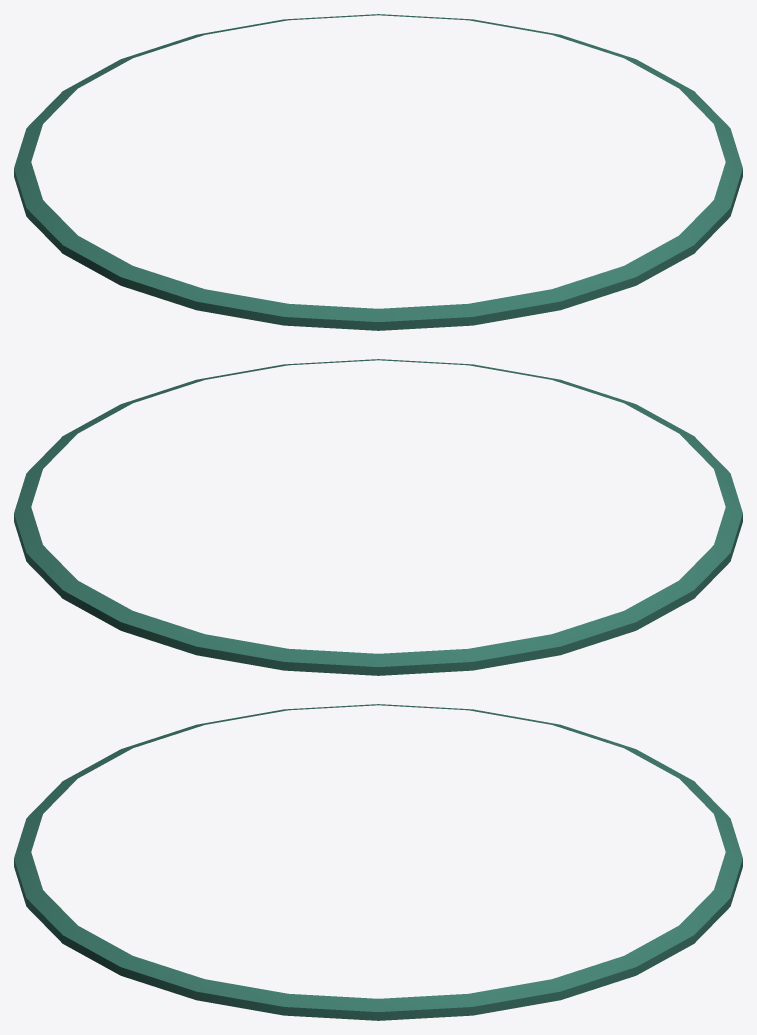
The model's file is dome.trim_bottom.copper.glb.
3 views of the same model, one above another, from view 1: azimuth 30°, elevation 25°; view 2: azimuth 150°, elevation 25°; view 3: azimuth 270°, elevation 25° (orthographic).
Visible parts, largest first — view 1: dome_trim_bottom_copper; view 2: dome_trim_bottom_copper; view 3: dome_trim_bottom_copper.
Part boxes in pixels (bbox=[...]): dome_trim_bottom_copper: bbox=[14, 14, 742, 330]; dome_trim_bottom_copper: bbox=[14, 359, 742, 675]; dome_trim_bottom_copper: bbox=[14, 704, 742, 1020].
Size of what is drawn, in the model's own units: 7.6 by 0.17 by 7.6.
